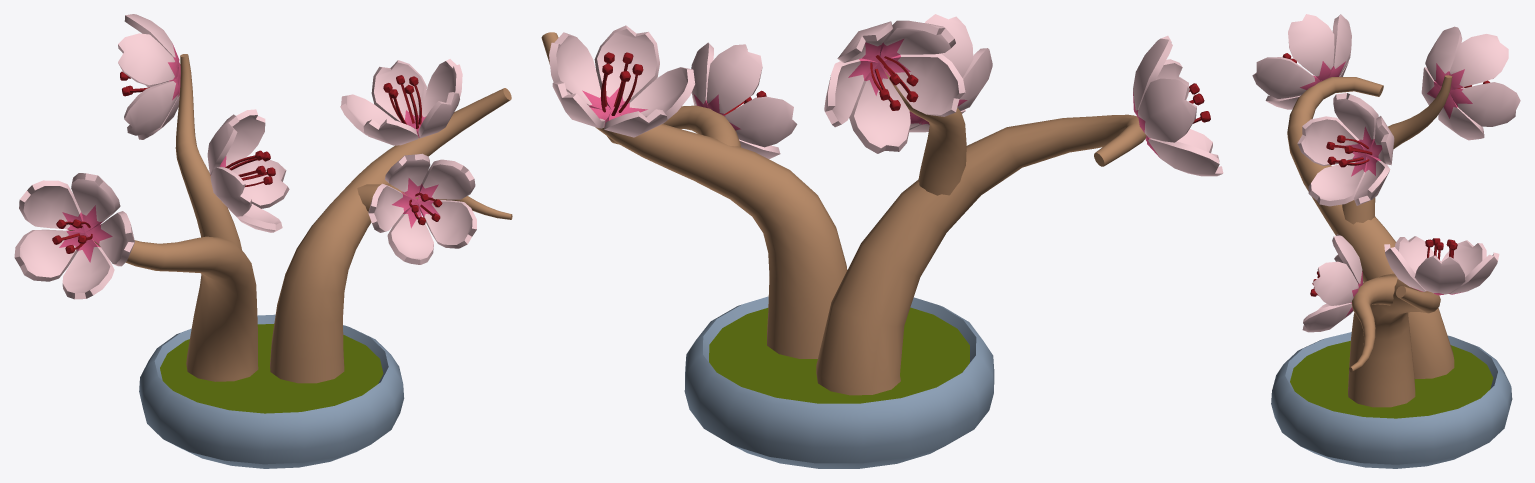
Rendered from sakura-tree.glb.
The picture shows the model from 3 angles, left to right: view 1: azimuth 30°, elevation 25°; view 2: azimuth 150°, elevation 25°; view 3: azimuth 270°, elevation 25°; orthographic projection. The views are drawn at different scales.
Parts seen in each view (by area): view 1: Decoration_SakuraTree; view 2: Decoration_SakuraTree; view 3: Decoration_SakuraTree.
Boxes of the visible parts, x1,y1,x2,y2 form: Decoration_SakuraTree: (14, 14, 512, 468); Decoration_SakuraTree: (541, 14, 1223, 468); Decoration_SakuraTree: (1252, 14, 1520, 468).
Bounding box in the file's own units: 4.72 × 3.39 × 2.25.
Materials: 1 (1 with a texture image).
